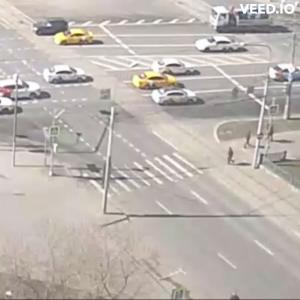car: (209, 7, 276, 34), (43, 64, 93, 86), (133, 71, 180, 91), (2, 79, 44, 101), (153, 90, 204, 108), (155, 59, 202, 78), (196, 37, 247, 54), (36, 19, 71, 37), (56, 32, 98, 46), (270, 66, 299, 84), (1, 96, 24, 115)
